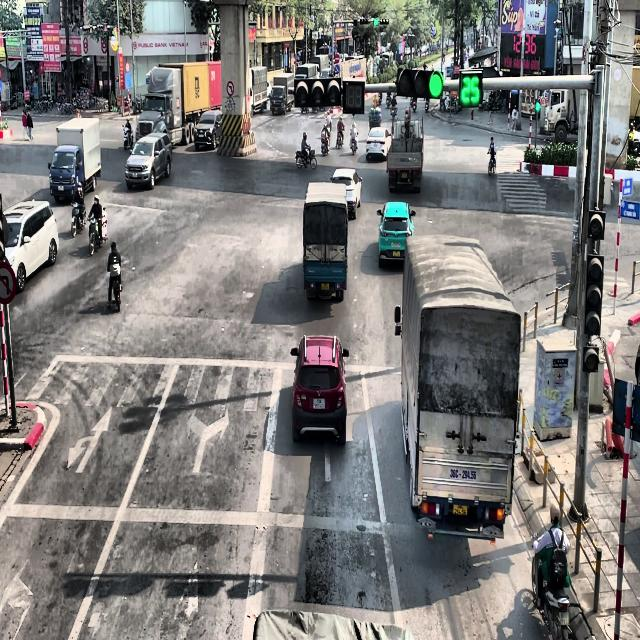lisence_plate: (451, 502, 469, 516), (312, 396, 326, 410), (318, 281, 331, 291), (391, 250, 401, 257), (402, 174, 408, 178), (373, 144, 378, 148)
